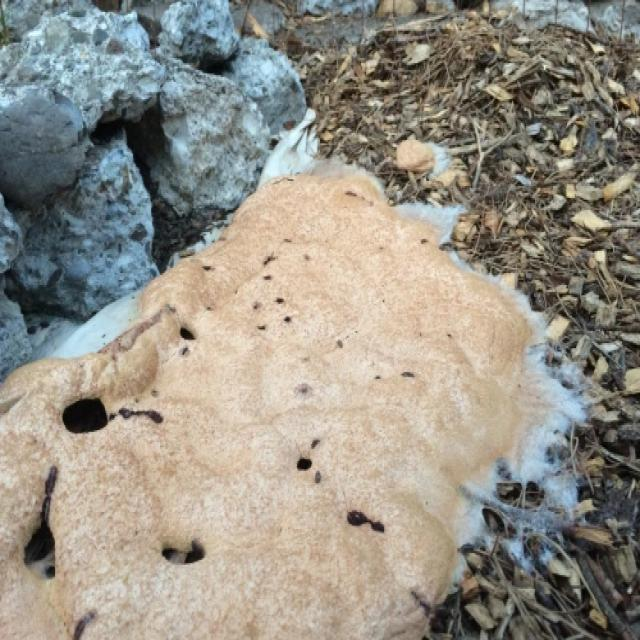Dog_vomit_slime_mold: (0, 125, 552, 638)
